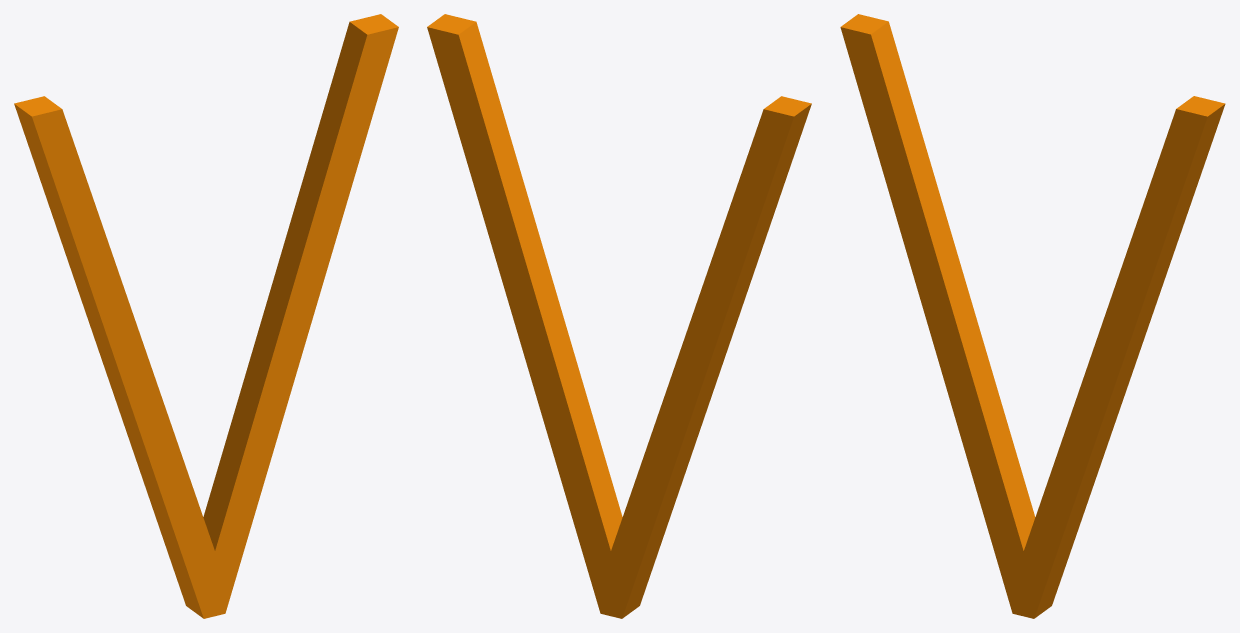
3 views of the same model, side by side, from view 1: azimuth 30°, elevation 25°; view 2: azimuth 150°, elevation 25°; view 3: azimuth 330°, elevation 25° (orthographic).
Visible parts, largest first — view 1: V; view 2: V; view 3: V.
Part boxes in pixels (x1,y1,x2,y2): V: (14,14,398,618); V: (427,14,811,618); V: (840,14,1225,618).
Bounding box in the file's own units: 59.36 × 84.1 × 5.
